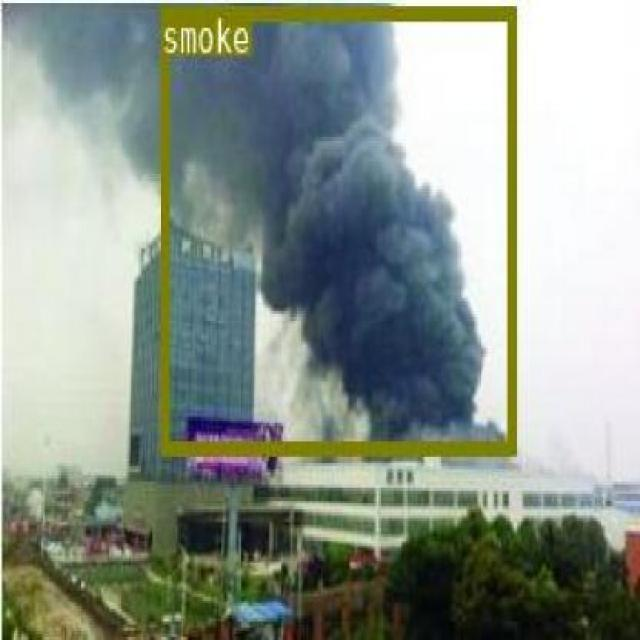Smoke: (160, 5, 514, 453)
